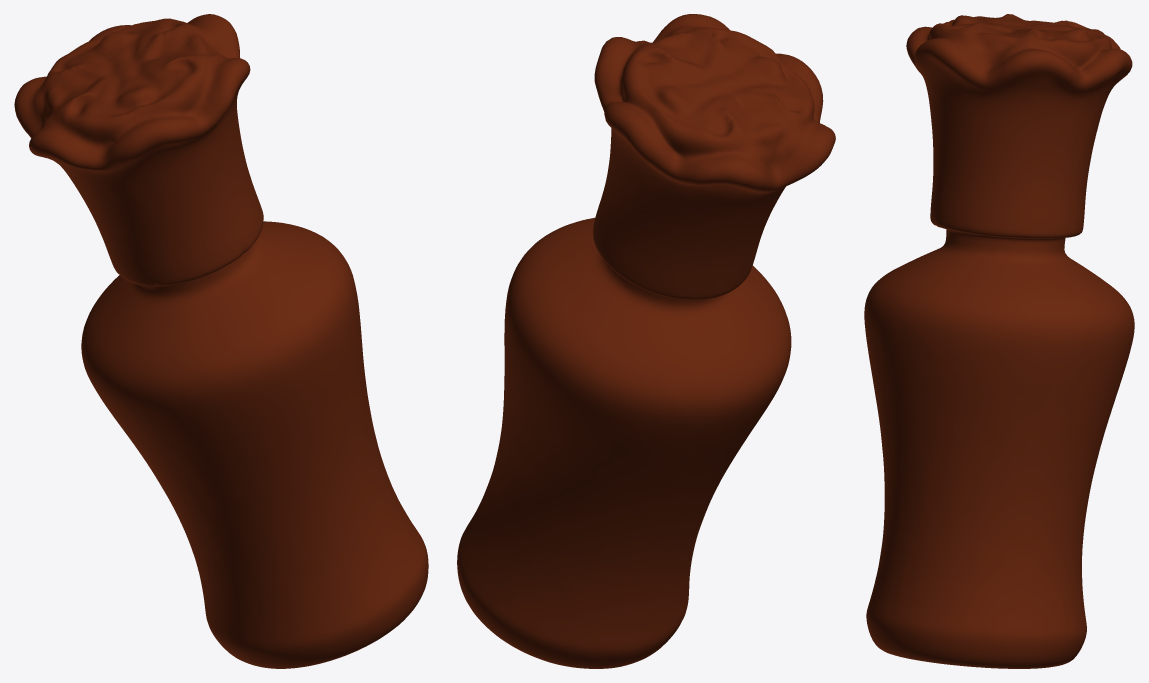
File: brown_perfume_bottle1.glb
3 views of the same model, side by side, from view 1: azimuth 30°, elevation 25°; view 2: azimuth 150°, elevation 25°; view 3: azimuth 270°, elevation 25° (orthographic). The views are drawn at different scales.
Visible parts, largest first — view 1: Mesh1_Mesh1.026; view 2: Mesh1_Mesh1.026; view 3: Mesh1_Mesh1.026.
Boxes of the visible parts, <box> form: Mesh1_Mesh1.026: <box>14,14,428,668</box>; Mesh1_Mesh1.026: <box>457,14,835,668</box>; Mesh1_Mesh1.026: <box>864,14,1134,668</box>.
Bounding box in the file's own units: 1.24 × 2.04 × 0.8388.
